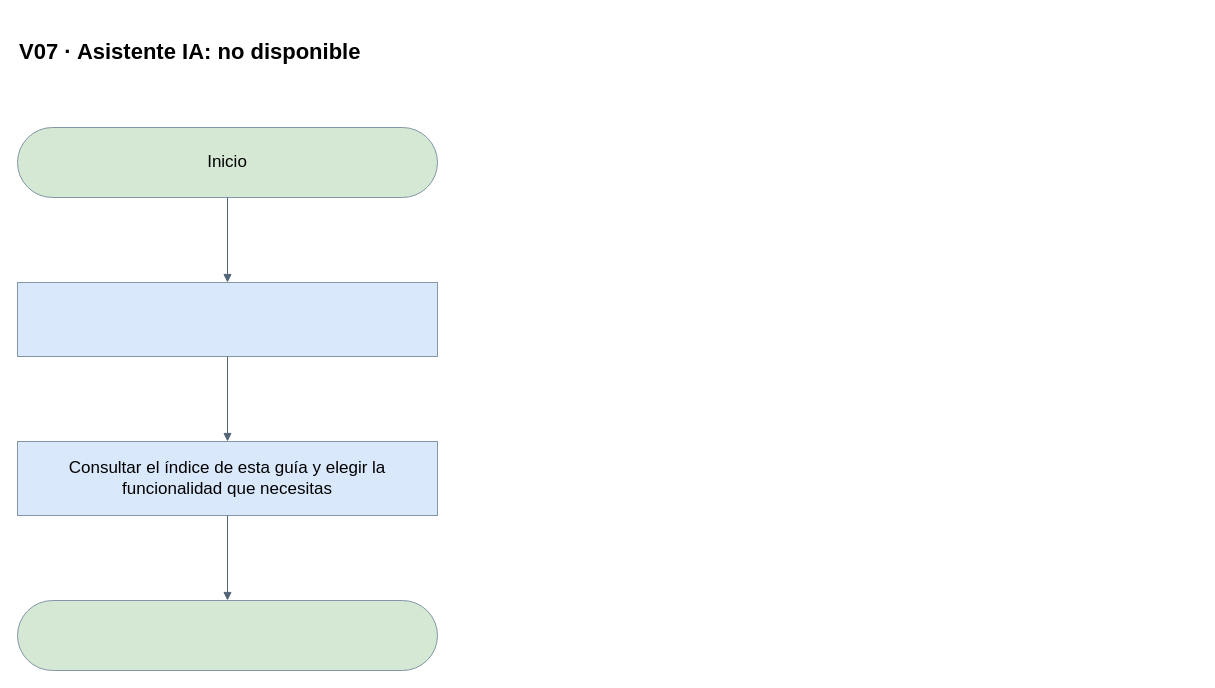
Some shapes in this 1215 by 688 pixel diagram are drawn without their labels. Each missing label, with the centre of its shape:
"El asistente IA no está disponible por el momento" goes at point (227, 319).
"Fin" goes at point (227, 635).
